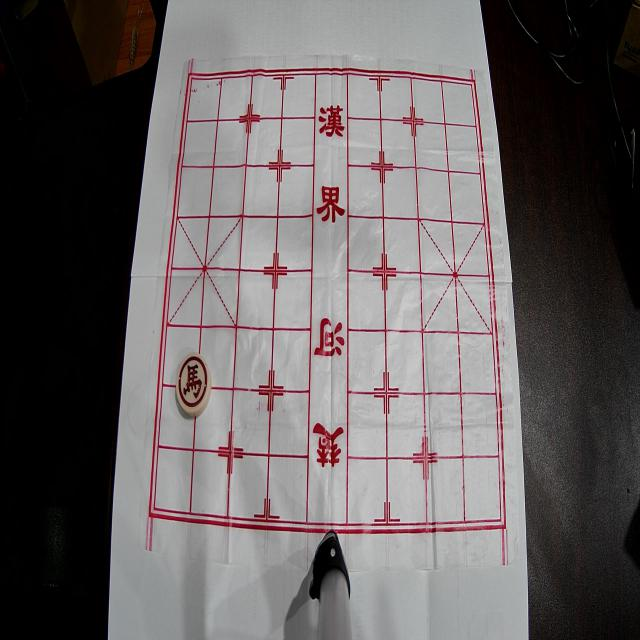red-horse: (176, 352, 212, 417)
